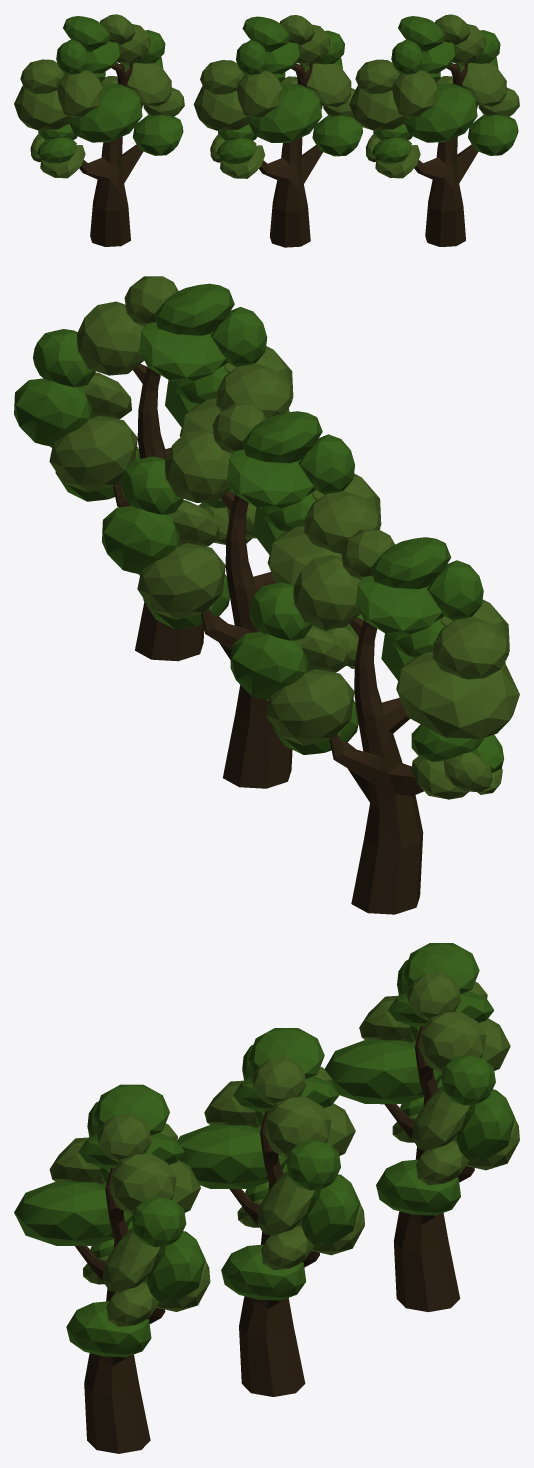
The model's file is tree4.obj.
3 renders of one model, top to bottom at view 1: azimuth 30°, elevation 25°; view 2: azimuth 150°, elevation 25°; view 3: azimuth 270°, elevation 25°, orthographic. The views are drawn at different scales.
Visible parts, largest first — view 1: Oak_Cylinder.009, Oak_Cylinder.007, Oak_Cylinder.008; view 2: Oak_Cylinder.009, Oak_Cylinder.008, Oak_Cylinder.007; view 3: Oak_Cylinder.007, Oak_Cylinder.009, Oak_Cylinder.008.
Boxes of the visible parts, <box> form: Oak_Cylinder.009: <box>14,14,184,246</box>; Oak_Cylinder.007: <box>349,14,519,246</box>; Oak_Cylinder.008: <box>193,15,362,247</box>; Oak_Cylinder.009: <box>230,529,519,914</box>; Oak_Cylinder.008: <box>102,404,381,788</box>; Oak_Cylinder.007: <box>14,276,293,661</box>; Oak_Cylinder.007: <box>14,1084,210,1453</box>; Oak_Cylinder.009: <box>324,943,519,1312</box>; Oak_Cylinder.008: <box>177,1028,364,1396</box>.
Bounding box in the file's own units: 298 × 176 × 223.
